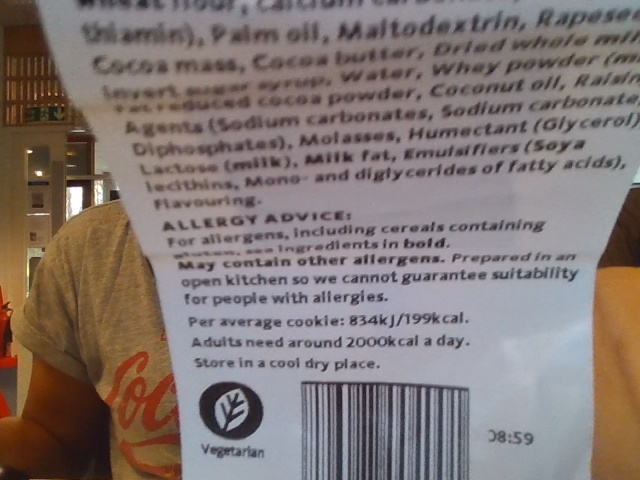milk: (228, 156, 283, 175), (300, 150, 357, 168)
